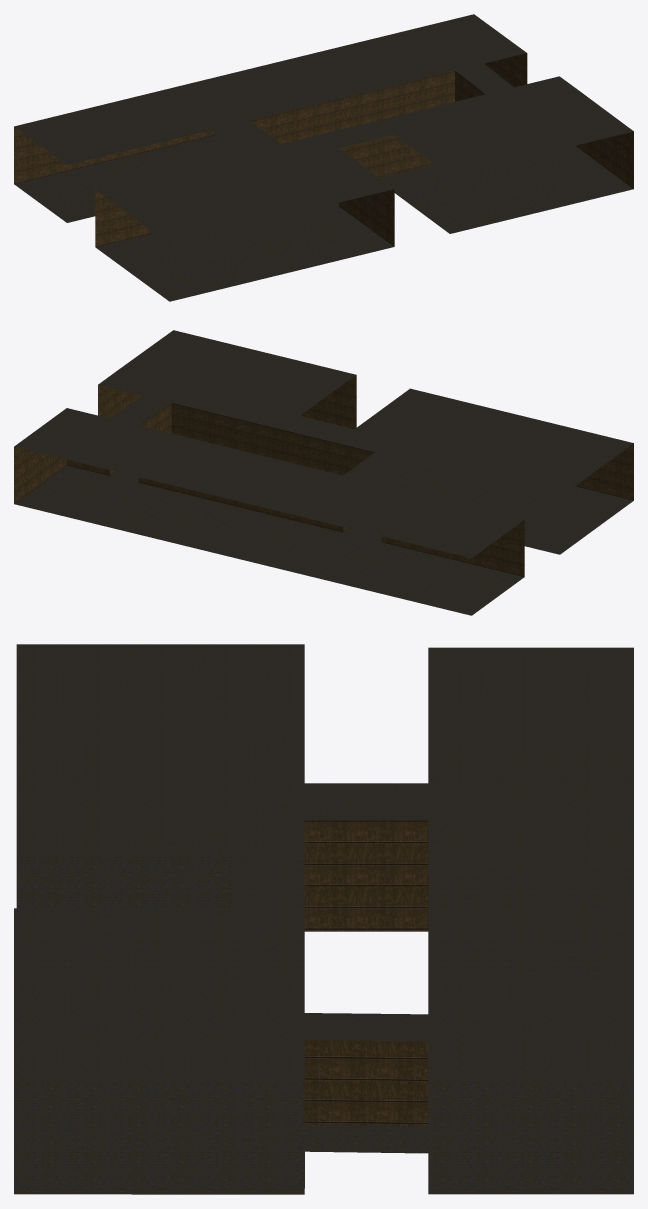
File: testroom.glb
3 views of the same model, one above another, from view 1: azimuth 30°, elevation 25°; view 2: azimuth 150°, elevation 25°; view 3: azimuth 270°, elevation 25° (orthographic). The views are drawn at different scales.
Visible parts, largest first — view 1: Plane; view 2: Plane; view 3: Plane.
Part boxes in pixels (x1,y1,x2,y2): Plane: [14, 14, 633, 301]; Plane: [14, 330, 633, 615]; Plane: [14, 644, 633, 1194].
Bounding box in the file's own units: 25.22 × 3 × 15.07.
2 materials, 2 textured.
